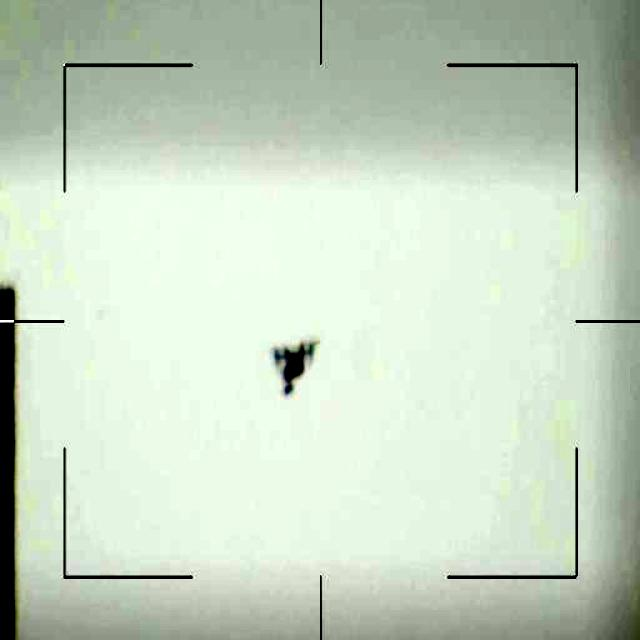bird: (270, 330, 318, 404)
